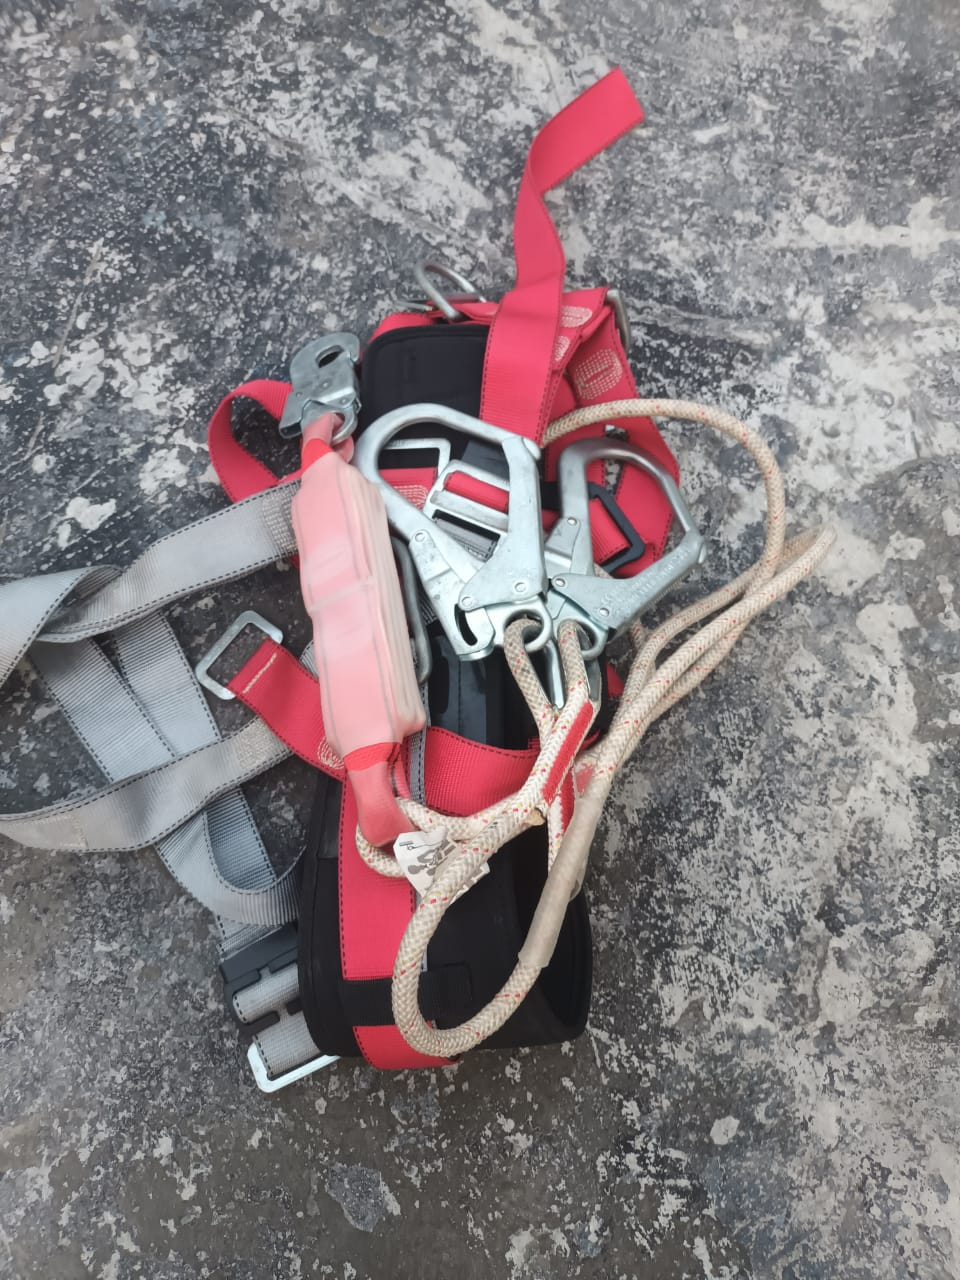TAMBANG_SLING: (208, 308, 615, 1066)
